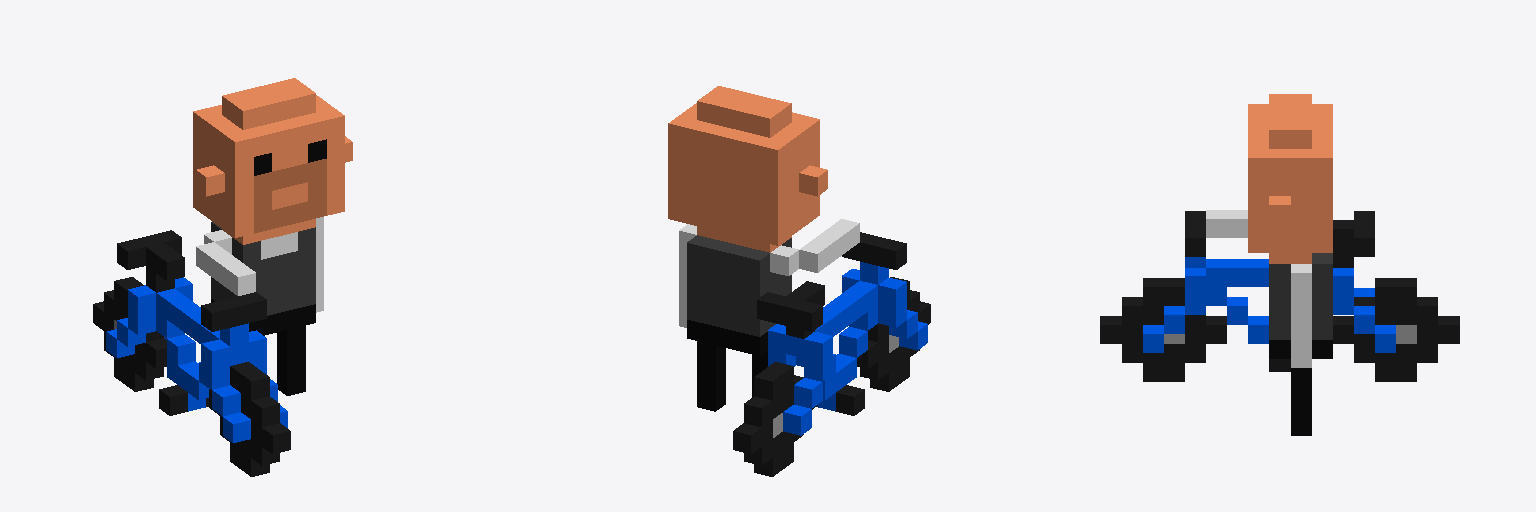
3 renders of one model, left to right at view 1: azimuth 30°, elevation 25°; view 2: azimuth 150°, elevation 25°; view 3: azimuth 270°, elevation 25°, orthographic.
Parts seen in each view (by area): view 1: object 1; view 2: object 1; view 3: object 1.
Boxes of the visible parts, x1=… form: object 1: x1=93, y1=78, x2=352, y2=476; object 1: x1=668, y1=86, x2=930, y2=476; object 1: x1=1100, y1=94, x2=1459, y2=435.
Bounding box in the file's own units: 1 × 1.6 × 1.7.
Materials: 1 (1 with a texture image).